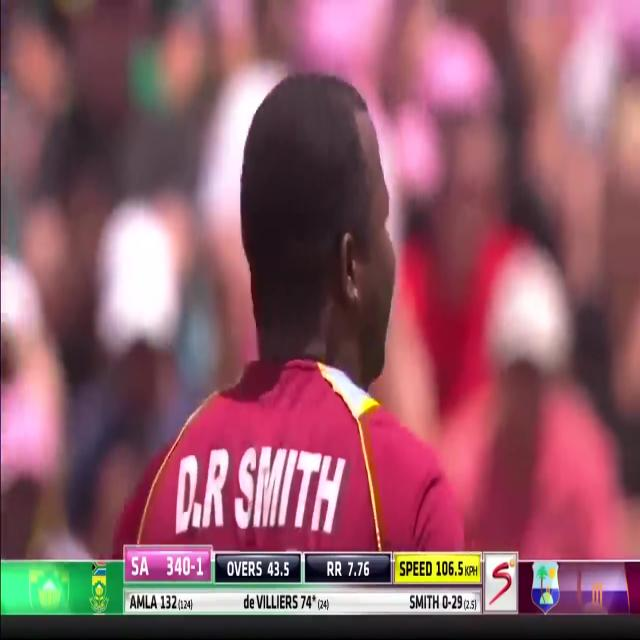Fielder: (114, 11, 499, 551)
